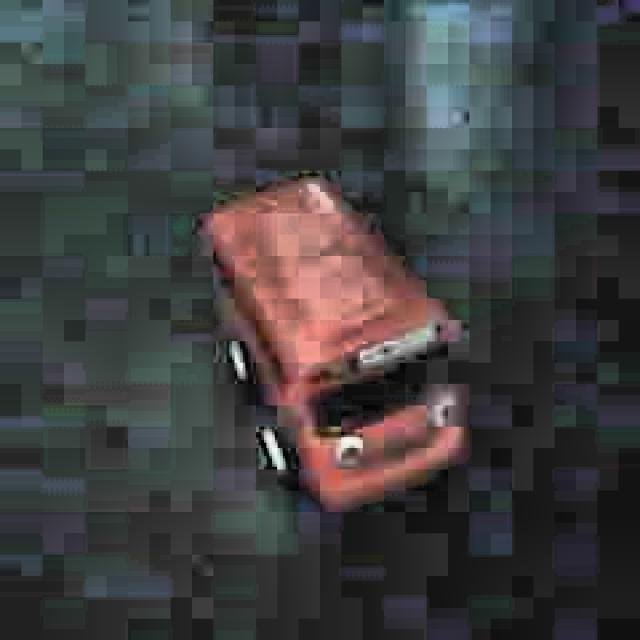bus: (187, 153, 482, 532)
